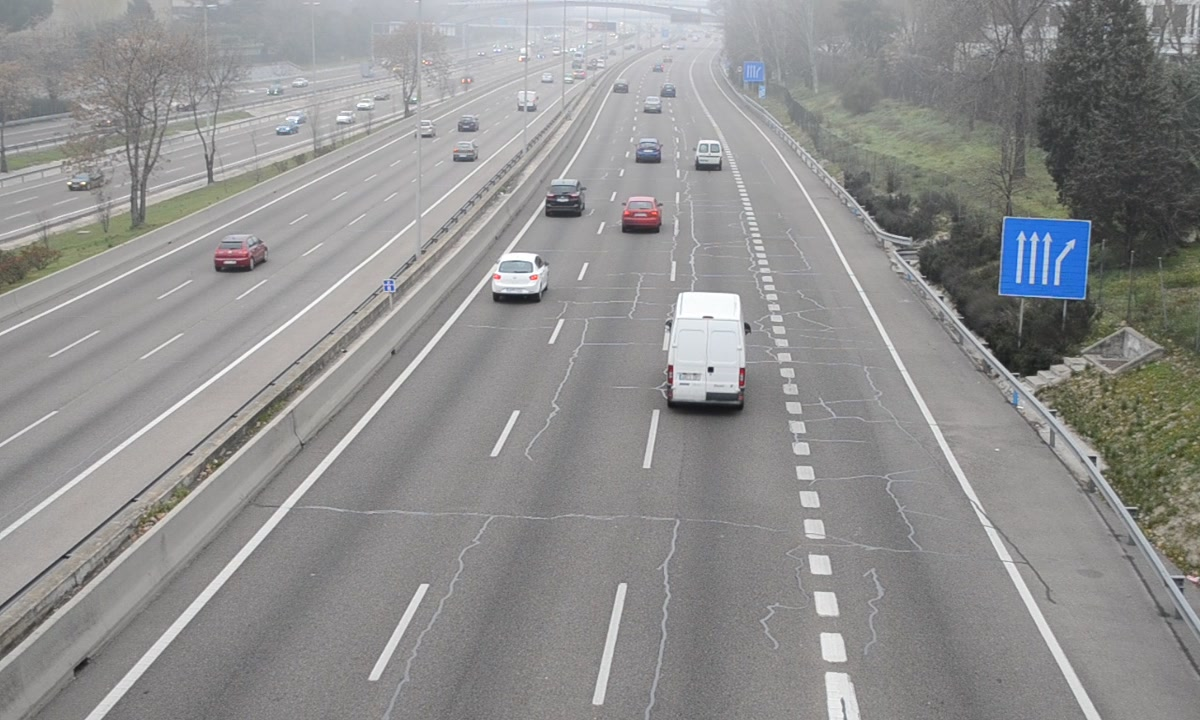car: (490, 253, 550, 296), (544, 178, 586, 219), (622, 196, 663, 234), (634, 137, 663, 165)
van: (665, 293, 747, 409), (694, 139, 725, 173)
